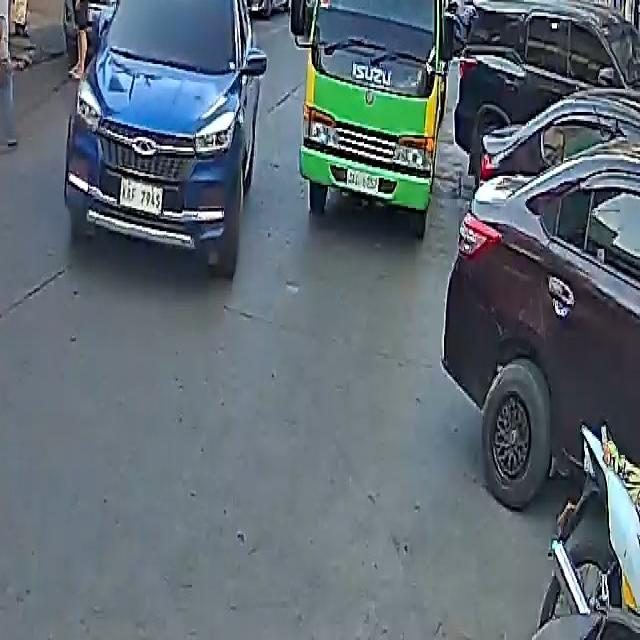car: (442, 80, 640, 523), (61, 0, 267, 272), (453, 0, 639, 176), (76, 0, 196, 57), (229, 0, 293, 20)
